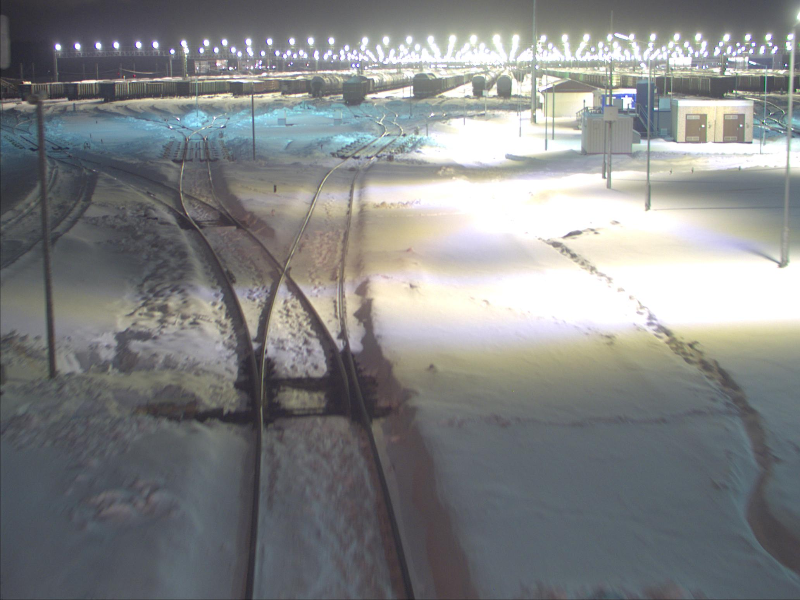right: (223, 266, 371, 421), (172, 190, 242, 228)
